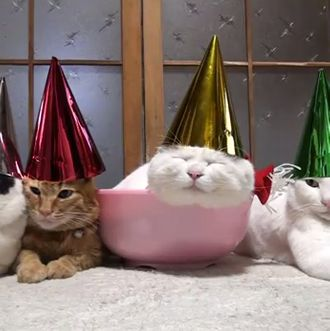cone: (24, 56, 107, 183), (161, 35, 245, 160), (290, 70, 330, 179)
